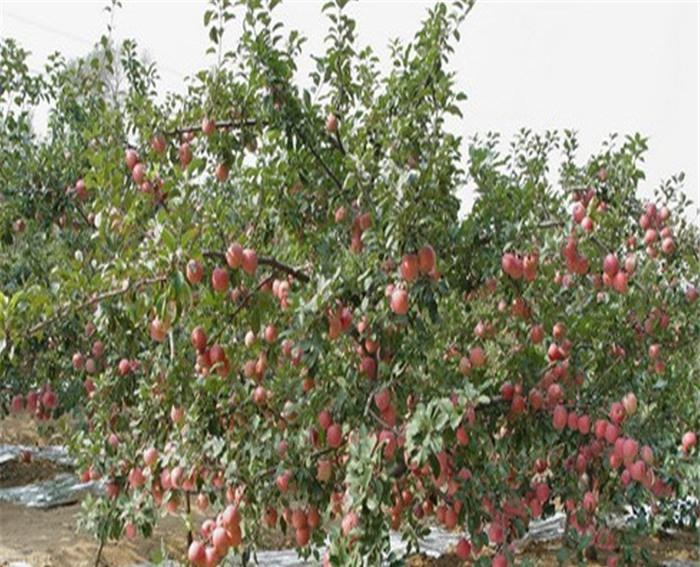apple: (209, 264, 228, 291), (184, 258, 203, 284), (190, 325, 208, 351), (609, 403, 625, 421)
